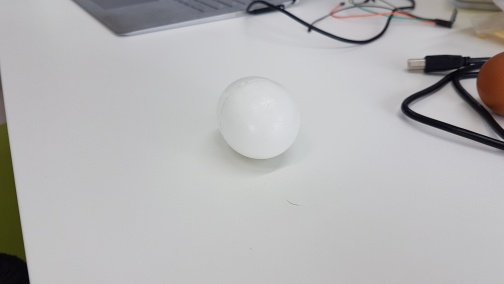egg: (214, 74, 302, 162), (474, 50, 504, 118)
